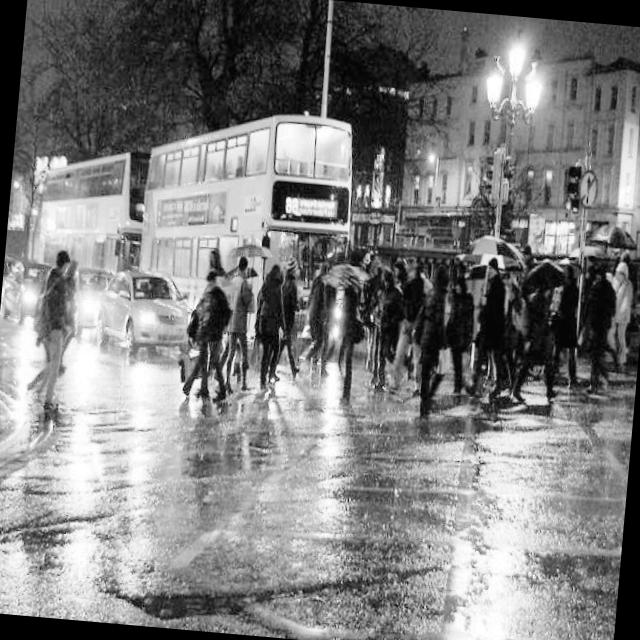Bus: (116, 63, 382, 367), (1, 112, 158, 306)
Car: (92, 260, 196, 385), (0, 243, 60, 340), (60, 242, 112, 348)
